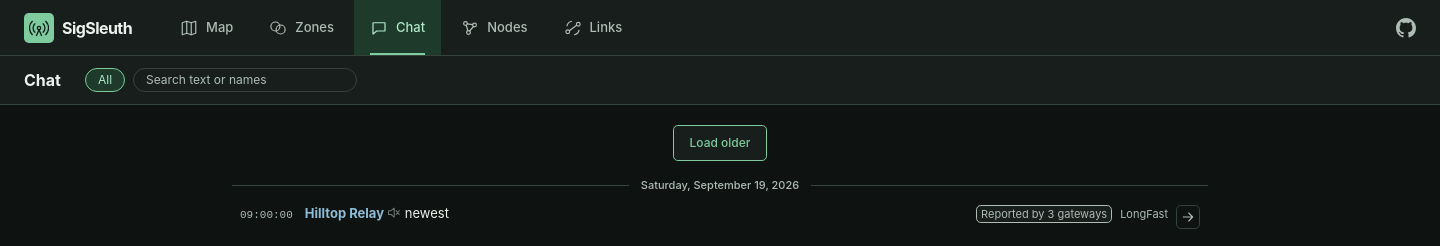
Chat › loads older messages above the loaded ones
Click the button "Load older".
click(720, 143)  # box [672, 125, 768, 161]
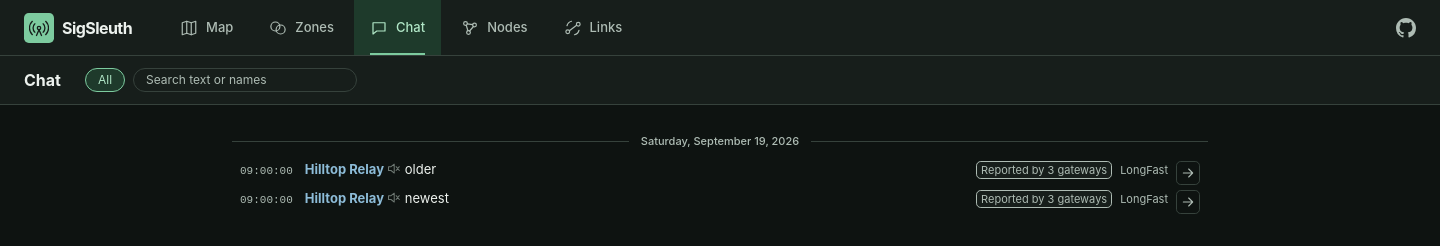
Expected: the text "older" is shown, [405, 160, 436, 176]
Expected: the button "Load older" is gone
